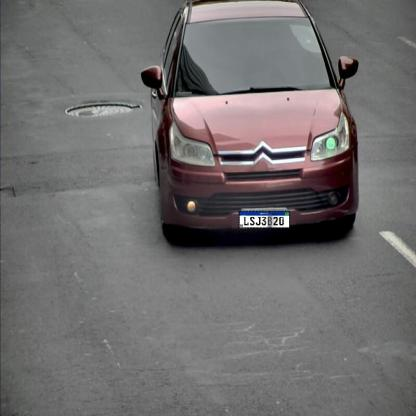PlacaM: (239, 211, 290, 228)
